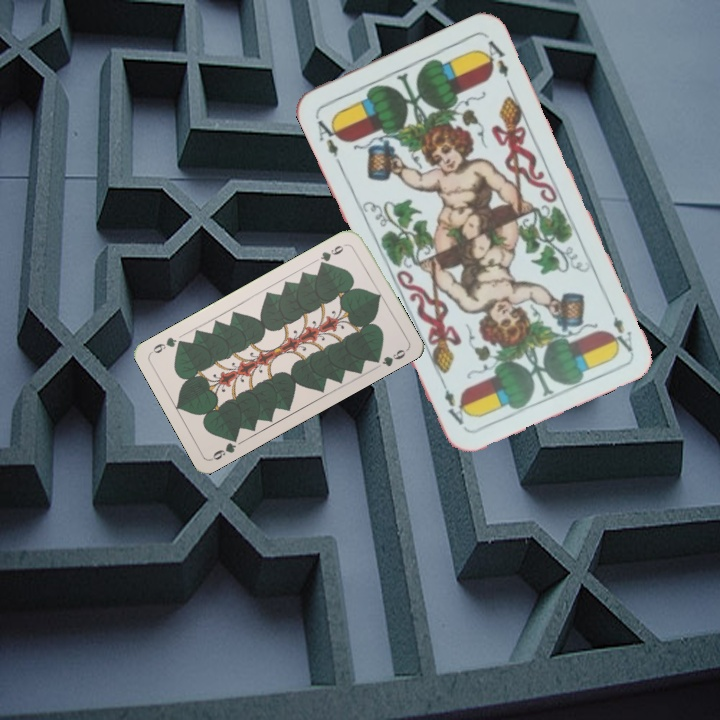EA: (603, 298, 636, 355), (311, 112, 344, 168)
G9: (207, 431, 241, 463), (315, 240, 350, 269)
